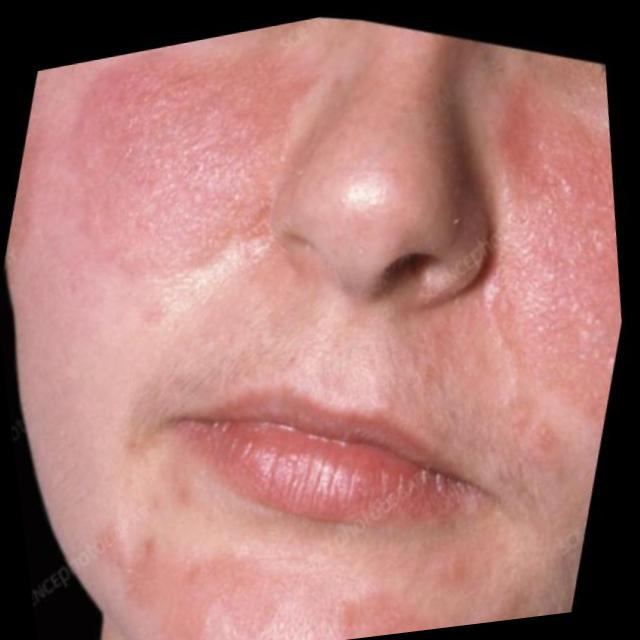redness: (54, 58, 312, 286), (481, 82, 627, 419), (91, 518, 302, 640), (337, 583, 431, 639), (417, 321, 464, 355)
